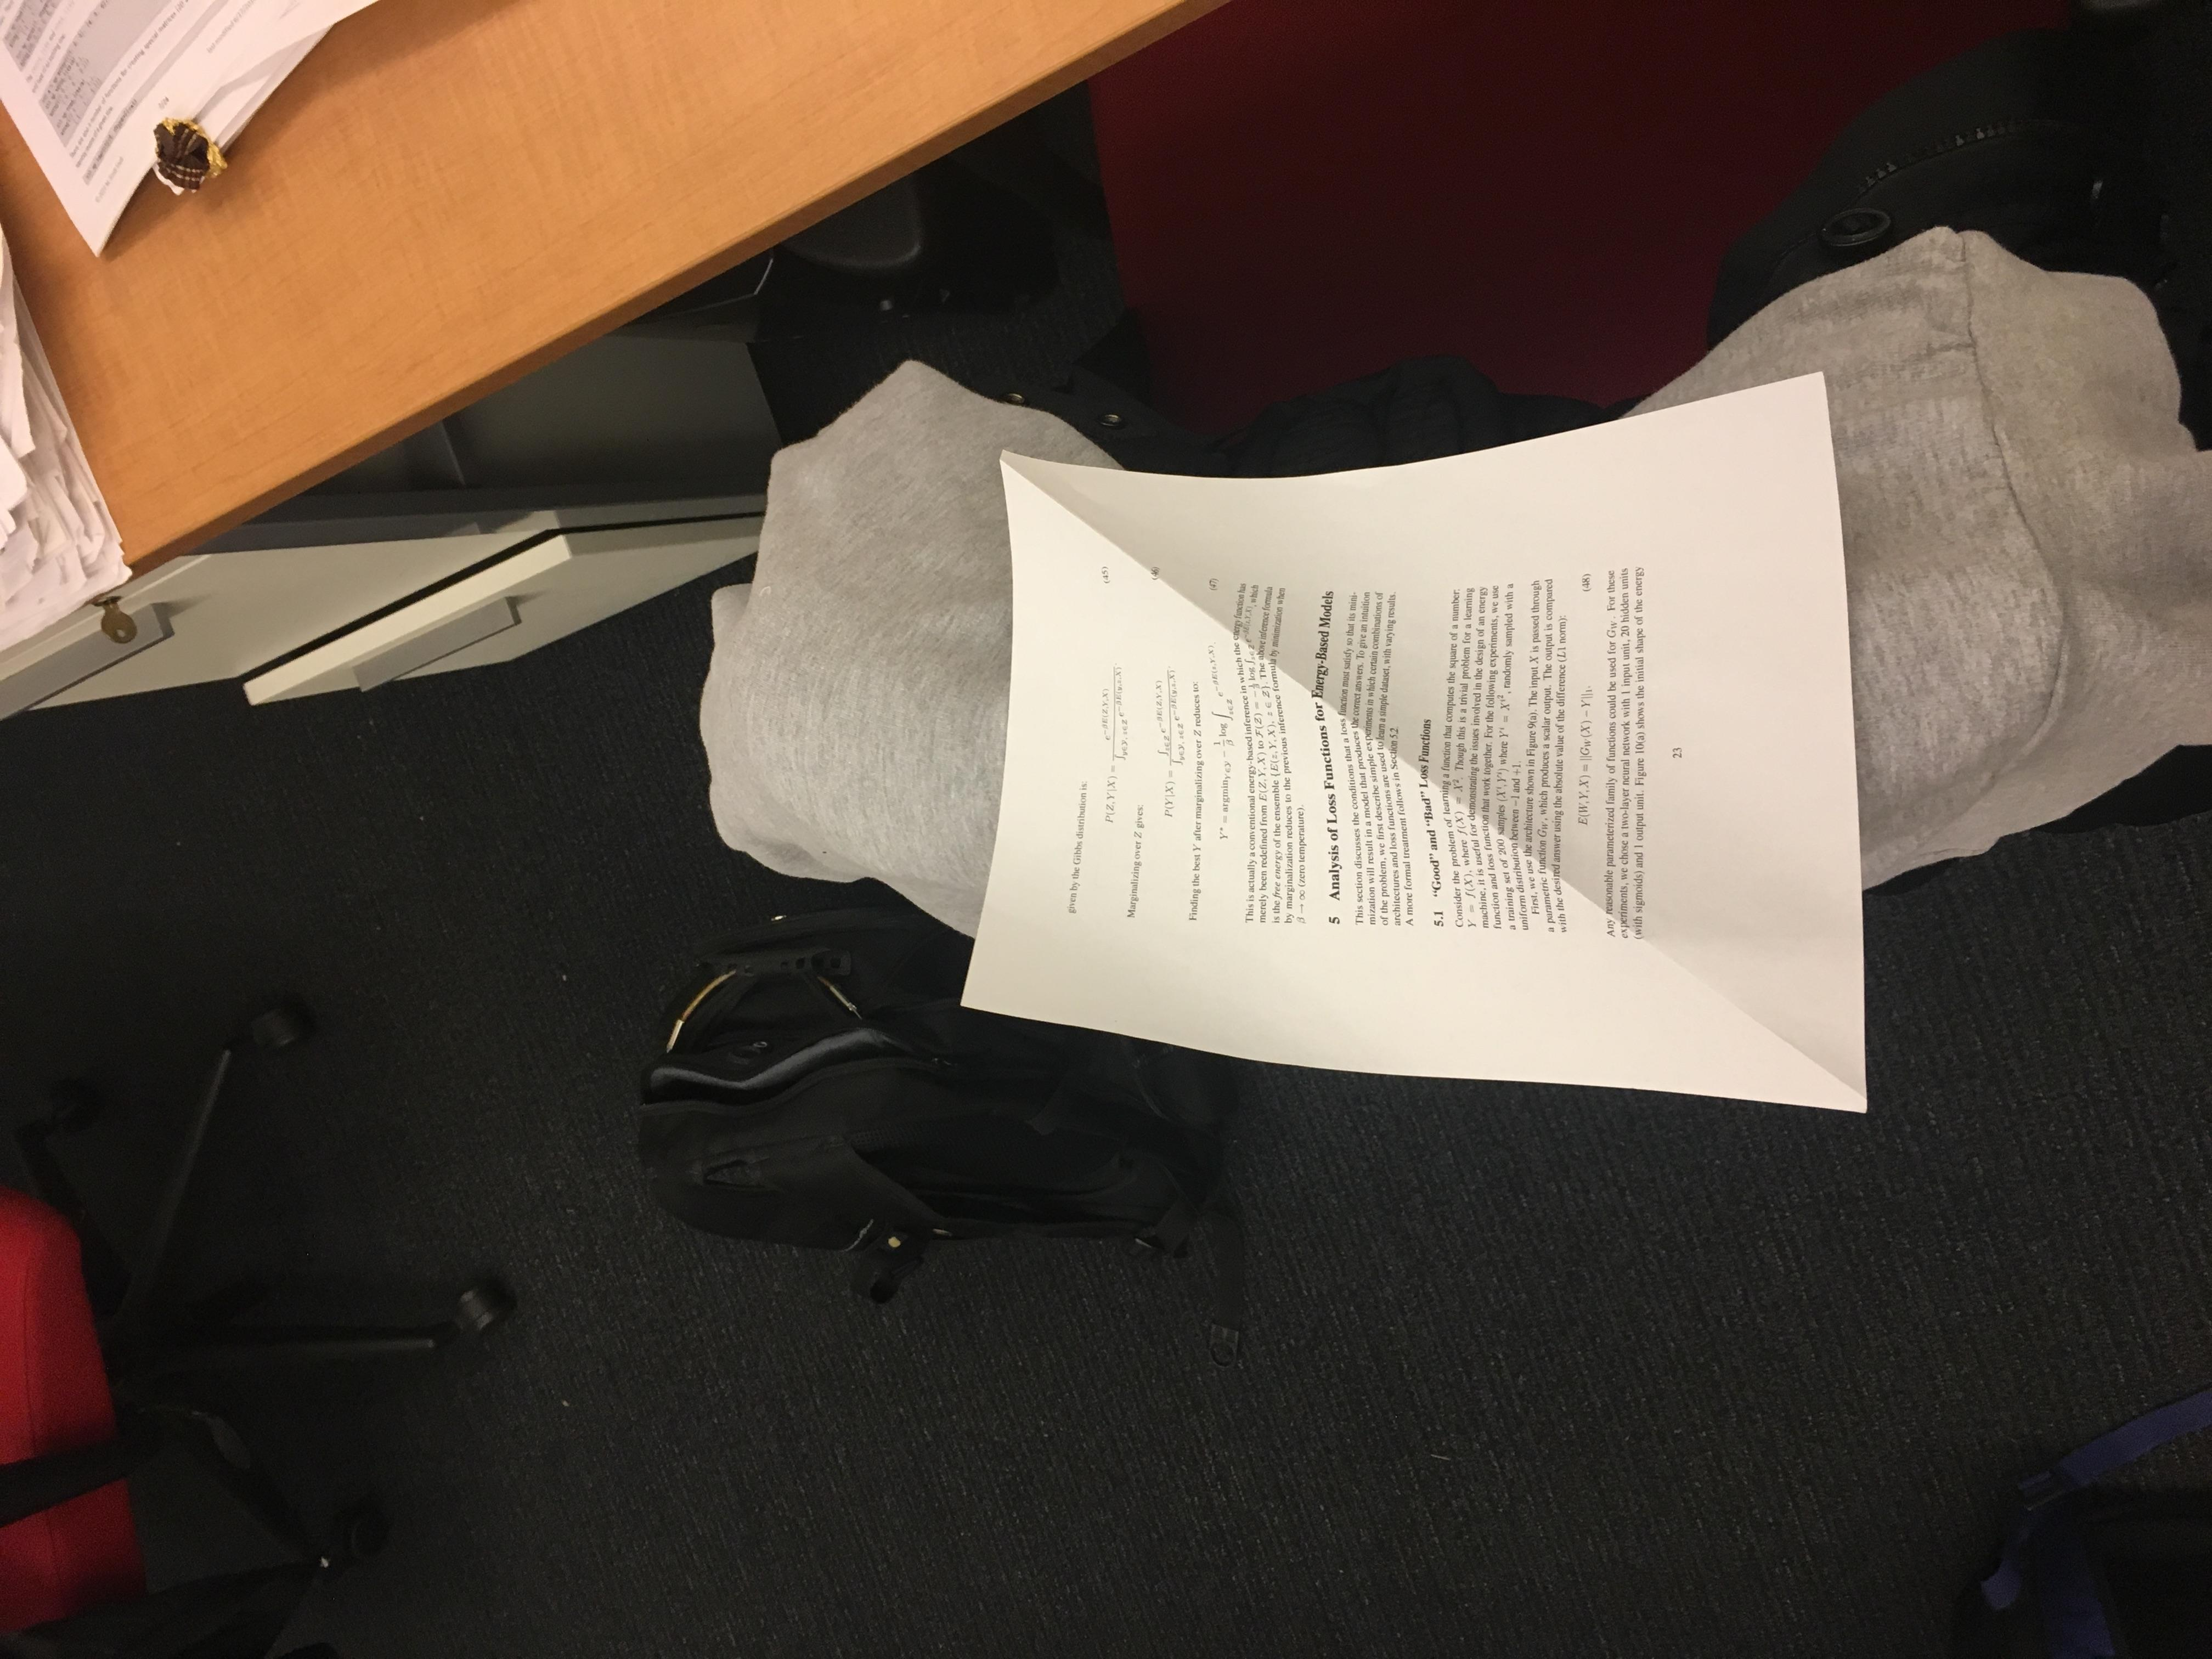paper: (541, 590, 1810, 1521)
